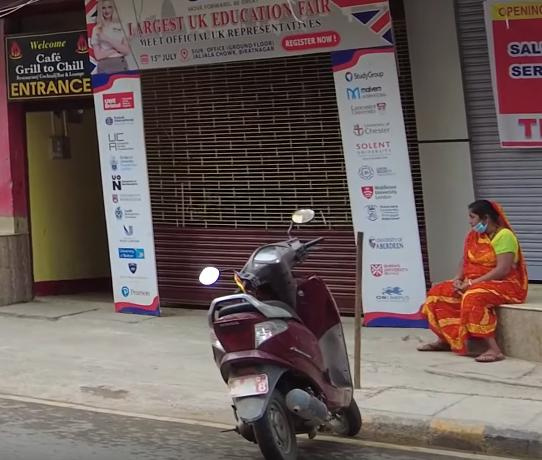scooter: (193, 201, 377, 460)
